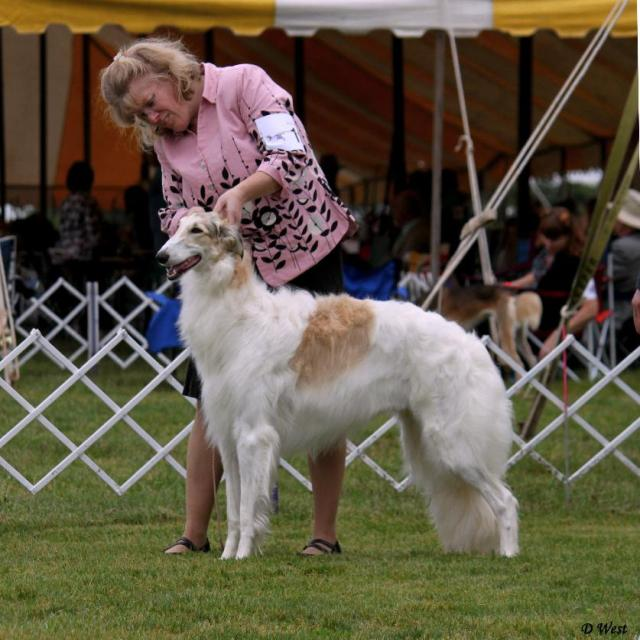Person: (93, 27, 359, 557)
